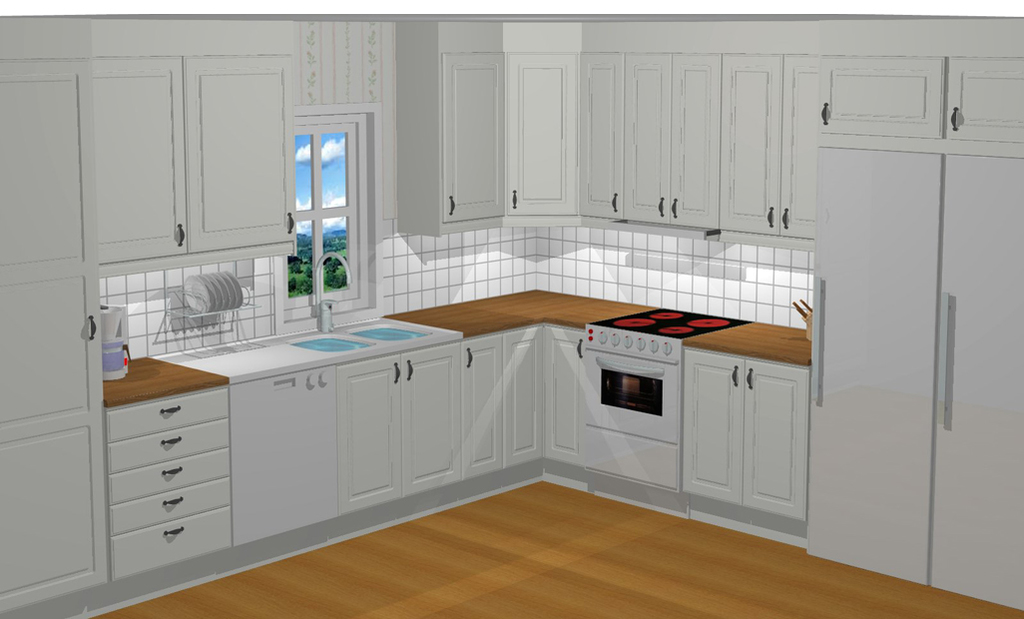cabinet door: (90, 64, 183, 254), (193, 71, 291, 233), (5, 279, 95, 408), (444, 57, 500, 212), (817, 63, 943, 131), (515, 59, 570, 213), (729, 61, 779, 230), (746, 369, 798, 512), (674, 62, 719, 221), (341, 370, 398, 495), (404, 356, 458, 481), (586, 53, 625, 215), (629, 56, 667, 218), (693, 359, 738, 483), (950, 64, 1024, 139), (785, 64, 810, 229), (466, 346, 498, 463), (550, 332, 581, 448), (122, 438, 218, 457), (117, 401, 217, 417), (125, 536, 225, 551), (126, 470, 216, 486), (134, 499, 219, 512)
handle: (937, 291, 950, 422), (816, 280, 822, 402), (171, 221, 188, 245), (165, 522, 184, 539), (444, 195, 458, 217), (952, 107, 964, 131), (162, 469, 184, 482), (654, 197, 666, 219), (746, 366, 758, 388), (162, 499, 184, 510), (391, 363, 402, 385), (286, 209, 296, 233), (462, 349, 474, 368), (158, 437, 183, 446), (730, 365, 741, 385), (512, 187, 522, 208), (406, 359, 415, 382), (670, 199, 680, 219), (159, 406, 181, 415), (780, 211, 791, 229), (88, 316, 96, 339), (610, 195, 620, 213), (819, 104, 829, 121), (573, 340, 583, 357), (765, 209, 774, 226)
refrigerator door: (814, 157, 927, 559), (934, 162, 1024, 587)
